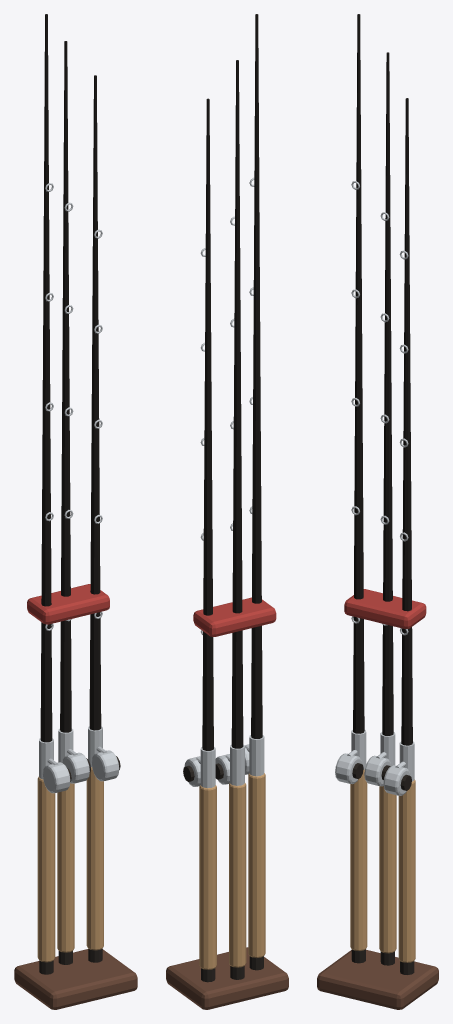
Rendered from hh_cat_fishing_rods.glb.
3 views of the same model, side by side, from view 1: azimuth 30°, elevation 25°; view 2: azimuth 210°, elevation 25°; view 3: azimuth 330°, elevation 25° (orthographic).
Parts seen in each view (by area): view 1: blank, blank.001, blank.002, rod_stand, cork_handle, cork_handle.002, cork_handle.001, rod_band, reel, reel.002, reel.001, reel_seat.001 (+2 smaller); view 2: blank, blank.001, blank.002, rod_stand, cork_handle.001, cork_handle.002, cork_handle, rod_band, reel_seat, reel_seat.002, reel_seat.001; view 3: blank, blank.001, blank.002, rod_stand, cork_handle.002, cork_handle, cork_handle.001, rod_band, reel, reel.002, reel.001, reel_seat (+2 smaller).
Part boxes in pixels (box(x1,y1,x2,y2)): blank: box(40, 14, 52, 742); blank.001: box(60, 41, 71, 732); blank.002: box(89, 75, 101, 730); rod_stand: box(14, 949, 137, 1009); cork_handle: box(37, 776, 55, 962); cork_handle.002: box(86, 767, 103, 950); cork_handle.001: box(57, 783, 74, 952); rod_band: box(27, 584, 109, 624); reel: box(42, 762, 70, 793); reel.002: box(91, 750, 119, 781); reel.001: box(62, 752, 89, 783); reel_seat.001: box(58, 728, 73, 762); blank: box(251, 14, 262, 738); blank.001: box(231, 60, 243, 748); blank.002: box(202, 98, 213, 750); rod_stand: box(166, 947, 288, 1009); cork_handle.001: box(229, 783, 246, 967); cork_handle.002: box(199, 785, 216, 969); cork_handle: box(248, 773, 265, 957); rod_band: box(193, 597, 276, 636); reel_seat: box(249, 735, 264, 776); reel_seat.002: box(200, 747, 215, 788); reel_seat.001: box(230, 744, 244, 785); blank: box(353, 14, 364, 733); blank.001: box(382, 52, 393, 735); blank.002: box(401, 98, 412, 745); rod_stand: box(317, 949, 438, 1009); cork_handle.002: box(398, 779, 415, 962); cork_handle: box(350, 769, 367, 950); cork_handle.001: box(379, 786, 396, 953); rod_band: box(344, 589, 426, 628); reel: box(335, 753, 362, 784); reel.002: box(383, 765, 410, 795); reel.001: box(364, 755, 391, 786); reel_seat: box(351, 730, 366, 769).
Size of the model in its own units: 0.15 by 1.6 by 0.12.
